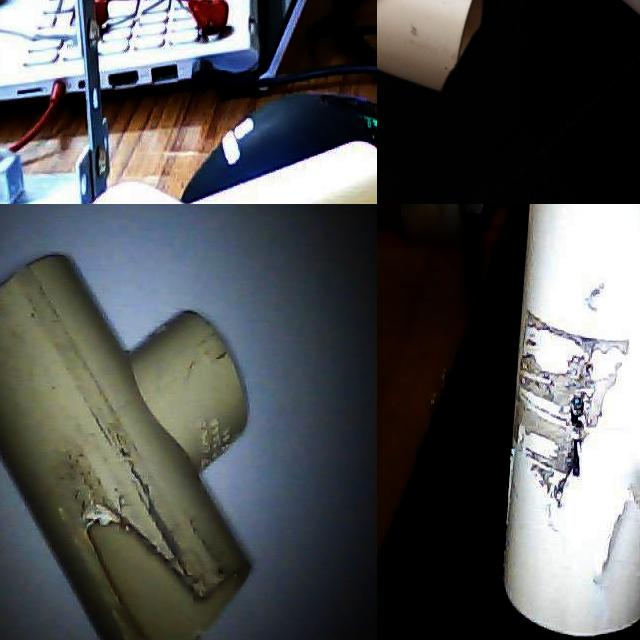Defective: (522, 304, 630, 496), (67, 497, 204, 640), (481, 25, 536, 132), (603, 488, 640, 615)
L Joint: (417, 9, 582, 204)
T Joint: (0, 254, 254, 640), (502, 204, 640, 640)
